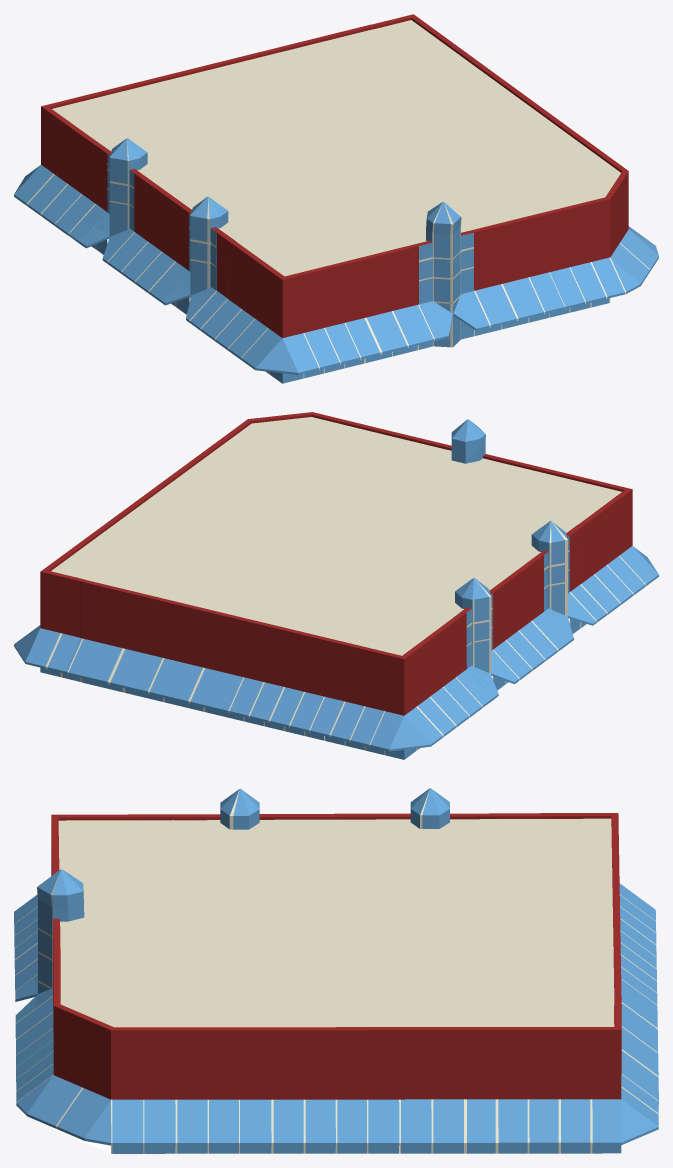
Rendered from wbbuilding2_draco.glb.
3 renders of one model, top to bottom at view 1: azimuth 30°, elevation 25°; view 2: azimuth 150°, elevation 25°; view 3: azimuth 270°, elevation 25°, orthographic. The views are drawn at different scales.
Visible parts, largest first — view 1: 279815775.001; view 2: 279815775.001; view 3: 279815775.001.
Boxes of the visible parts, bbox=[...] form: 279815775.001: bbox=[14, 14, 658, 383]; 279815775.001: bbox=[14, 412, 658, 759]; 279815775.001: bbox=[14, 788, 658, 1153].
Bounding box in the file's own units: 3549 × 1095 × 3884.
